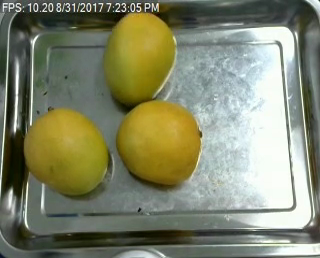Mango: (23, 106, 107, 195), (119, 98, 200, 189), (105, 10, 177, 106)
